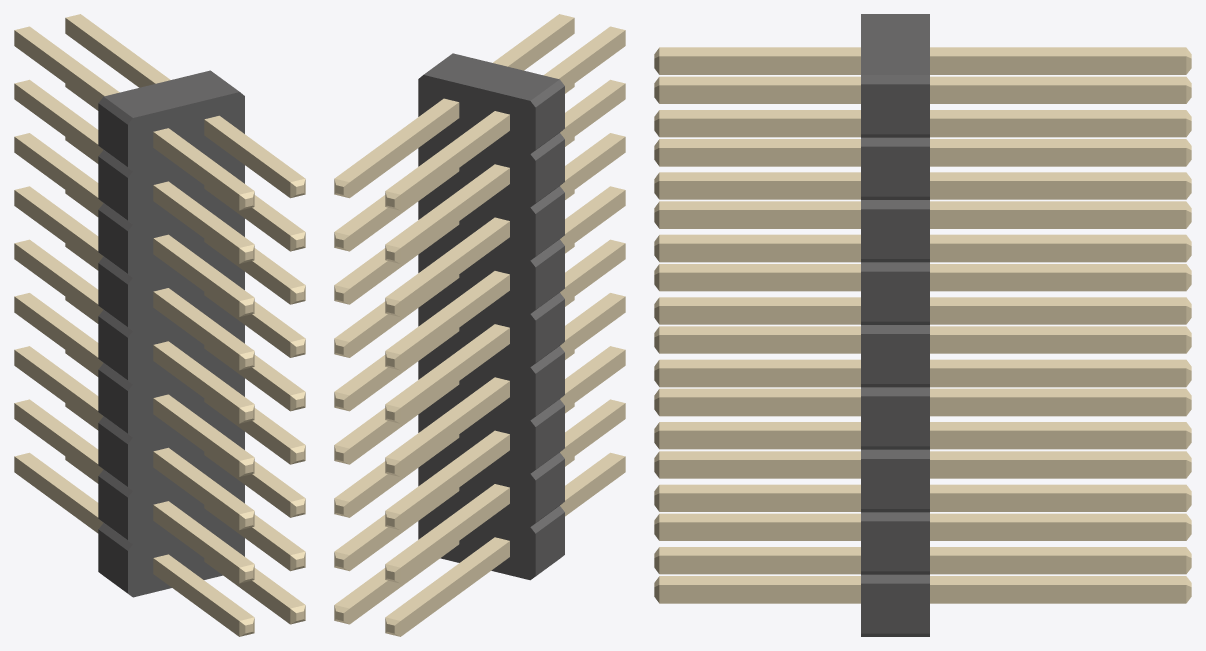
Rendered from PinHeader_2x09_P1.00mm_Vertical.glb.
3 views of the same model, side by side, from view 1: azimuth 30°, elevation 25°; view 2: azimuth 150°, elevation 25°; view 3: azimuth 270°, elevation 25° (orthographic). The views are drawn at different scales.
Parts seen in each view (by area): view 1: Shape_IndexedFaceSet.003, Shape_IndexedFaceSet.001, Shape_IndexedFaceSet.117, Shape_IndexedFaceSet.189, Shape_IndexedFaceSet.110, Shape_IndexedFaceSet.074, Shape_IndexedFaceSet.086, Shape_IndexedFaceSet.066, Shape_IndexedFaceSet.073, Shape_IndexedFaceSet.078, Shape_IndexedFaceSet.090, Shape_IndexedFaceSet.107 (+55 smaller); view 2: Shape_IndexedFaceSet.004, Shape_IndexedFaceSet.001, Shape_IndexedFaceSet.138, Shape_IndexedFaceSet.189, Shape_IndexedFaceSet.158, Shape_IndexedFaceSet.199, Shape_IndexedFaceSet.145, Shape_IndexedFaceSet.146, Shape_IndexedFaceSet.150, Shape_IndexedFaceSet.162, Shape_IndexedFaceSet.182, Shape_IndexedFaceSet.179 (+55 smaller); view 3: Shape_IndexedFaceSet.187, Shape_IndexedFaceSet.193, Shape_IndexedFaceSet.148, Shape_IndexedFaceSet.164, Shape_IndexedFaceSet.168, Shape_IndexedFaceSet.184, Shape_IndexedFaceSet.201, Shape_IndexedFaceSet.132, Shape_IndexedFaceSet.137, Shape_IndexedFaceSet.140, Shape_IndexedFaceSet.143, Shape_IndexedFaceSet.152 (+70 smaller).
Boxes of the visible parts, x1,y1,x2,y2 form: Shape_IndexedFaceSet.003: (128,92,244,597); Shape_IndexedFaceSet.001: (104,70,239,117); Shape_IndexedFaceSet.117: (153,398,239,476); Shape_IndexedFaceSet.189: (14,296,103,373); Shape_IndexedFaceSet.110: (153,451,239,529); Shape_IndexedFaceSet.074: (153,185,239,263); Shape_IndexedFaceSet.086: (153,345,239,423); Shape_IndexedFaceSet.066: (204,119,290,197); Shape_IndexedFaceSet.073: (153,238,239,316); Shape_IndexedFaceSet.078: (153,132,239,210); Shape_IndexedFaceSet.090: (153,292,239,369); Shape_IndexedFaceSet.107: (153,505,239,583); Shape_IndexedFaceSet.004: (418,75,535,580); Shape_IndexedFaceSet.001: (424,53,559,100); Shape_IndexedFaceSet.138: (349,102,459,197); Shape_IndexedFaceSet.189: (400,381,509,476); Shape_IndexedFaceSet.158: (400,328,509,423); Shape_IndexedFaceSet.199: (400,541,509,636); Shape_IndexedFaceSet.145: (400,221,509,316); Shape_IndexedFaceSet.146: (400,168,509,263); Shape_IndexedFaceSet.150: (400,115,509,210); Shape_IndexedFaceSet.162: (400,275,509,369); Shape_IndexedFaceSet.182: (400,434,509,529); Shape_IndexedFaceSet.179: (400,488,509,583); Shape_IndexedFaceSet.187: (930,368,1186,387); Shape_IndexedFaceSet.193: (930,397,1186,416); Shape_IndexedFaceSet.148: (930,118,1186,137); Shape_IndexedFaceSet.164: (930,243,1186,262); Shape_IndexedFaceSet.168: (930,272,1186,291); Shape_IndexedFaceSet.184: (930,430,1186,449); Shape_IndexedFaceSet.201: (930,555,1186,574); Shape_IndexedFaceSet.132: (930,210,1186,228); Shape_IndexedFaceSet.137: (930,148,1186,166); Shape_IndexedFaceSet.140: (930,85,1186,103); Shape_IndexedFaceSet.143: (930,181,1186,199); Shape_IndexedFaceSet.152: (930,56,1186,74).
Size of the model in its own units: 0.906 by 3.54 by 3.07.
